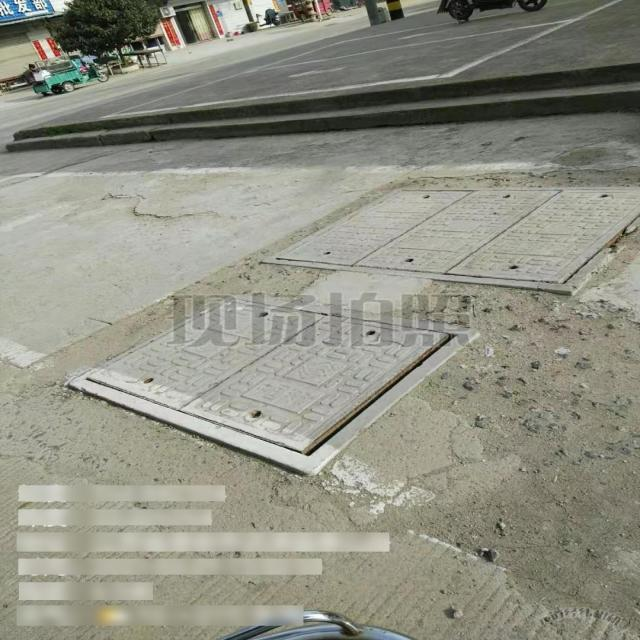Good: (67, 294, 481, 476), (262, 186, 639, 295)
